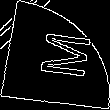M_W: (22, 28, 88, 82)
